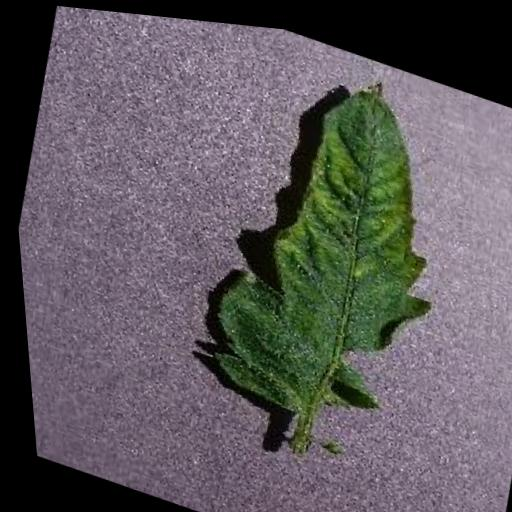Mosaic Virus: (171, 24, 488, 455)
